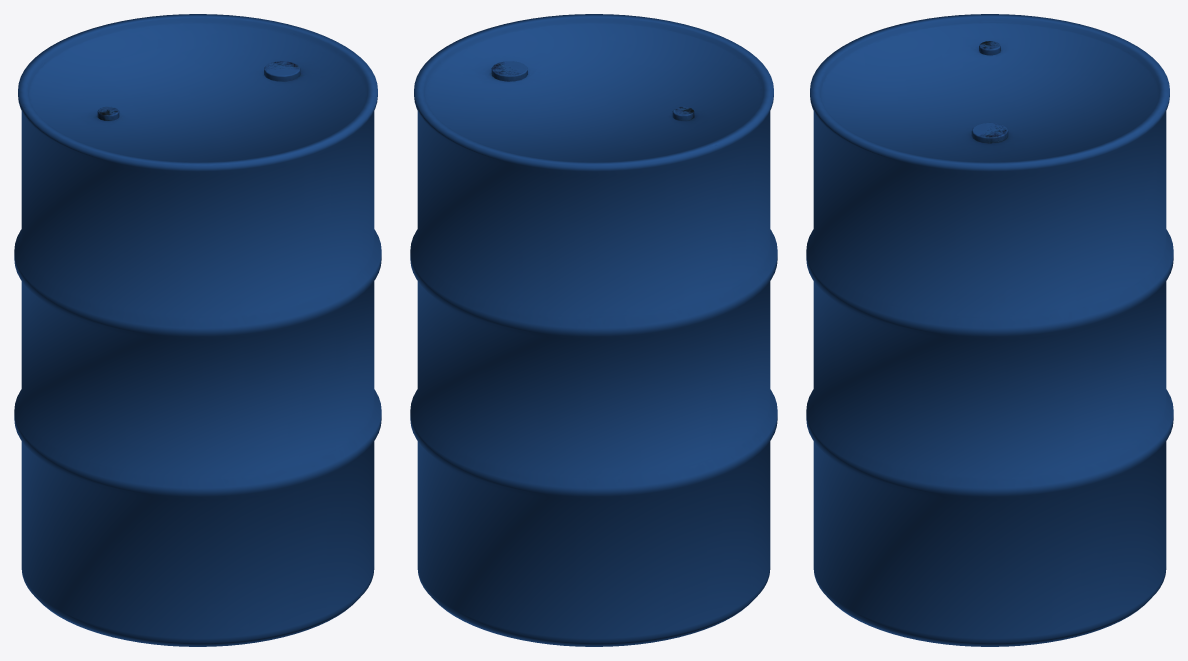
Rendered from steel-blue.glb.
3 renders of one model, left to right at view 1: azimuth 30°, elevation 25°; view 2: azimuth 150°, elevation 25°; view 3: azimuth 270°, elevation 25°, orthographic.
Visible parts, largest first — view 1: paint_primary; view 2: paint_primary; view 3: paint_primary.
Boxes of the visible parts, <box> form: paint_primary: <box>14,14,381,646</box>; paint_primary: <box>410,14,777,646</box>; paint_primary: <box>806,14,1173,646</box>.
Bounding box in the file's own units: 0.604 × 0.882 × 0.604.
Materials: 1 (1 with a texture image).
